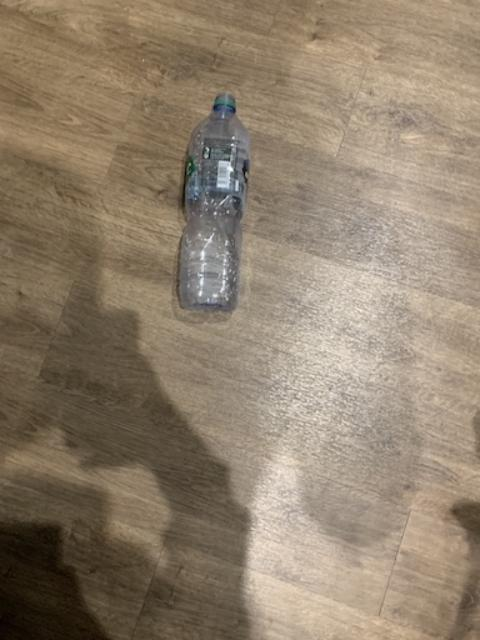plastic: (178, 91, 248, 308)
